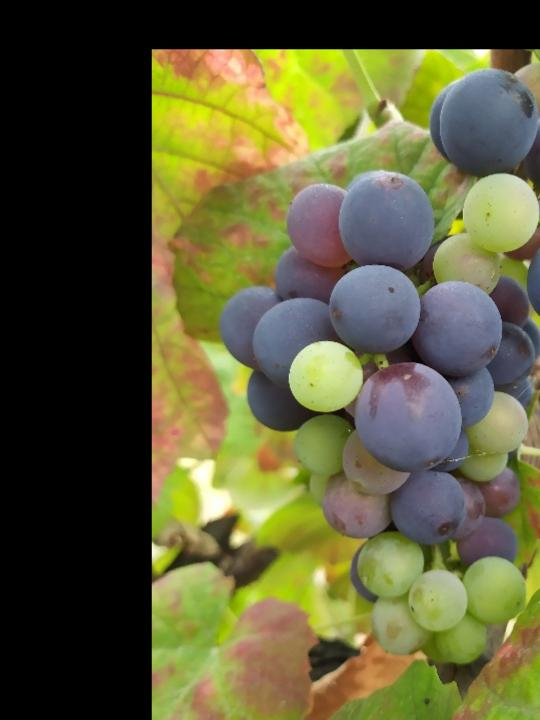grape: (216, 167, 540, 667)
